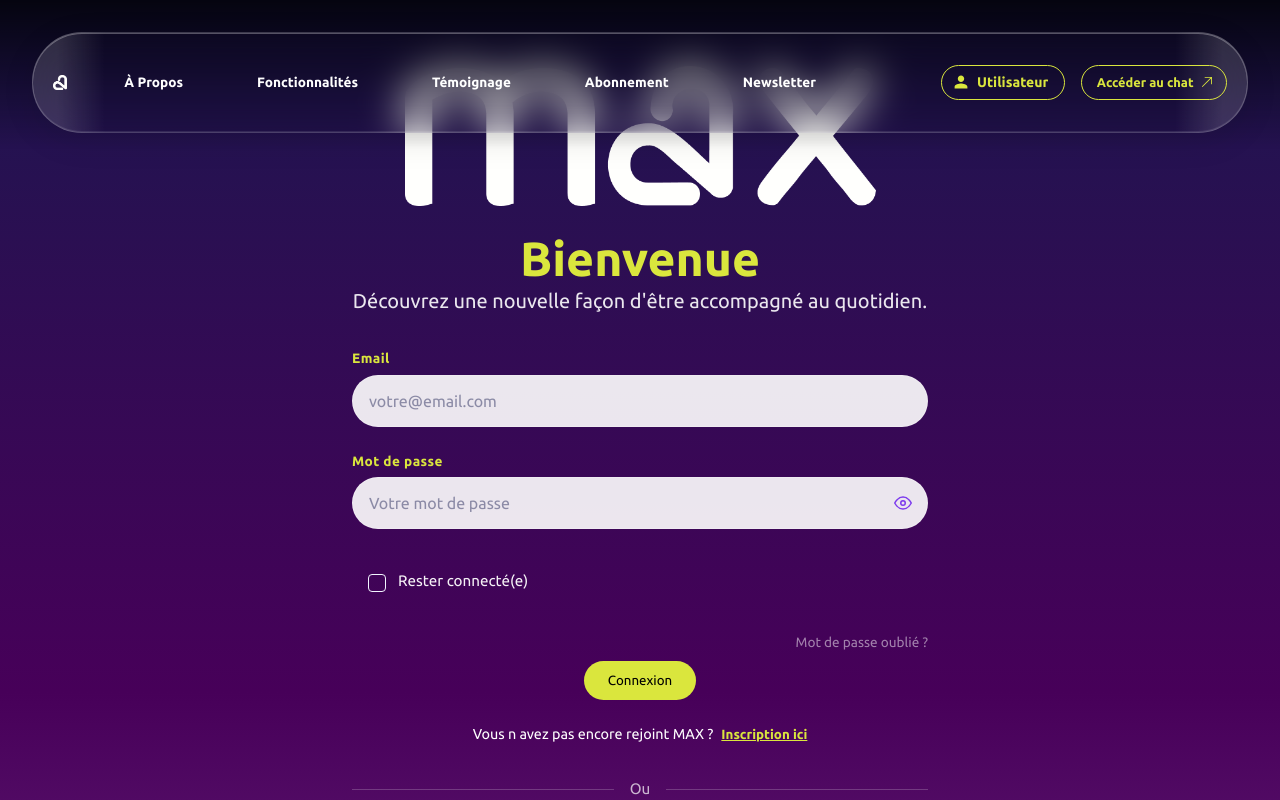
AuthUser Component - Extended Tests › Error Handling › displays generic error on network failure
This screenshot has width=1280, height=800.
(page scrolled)
Type "test@example.com" into the field with placeholder "votre@email.com" at coordinates (640, 401), box [352, 375, 928, 427]
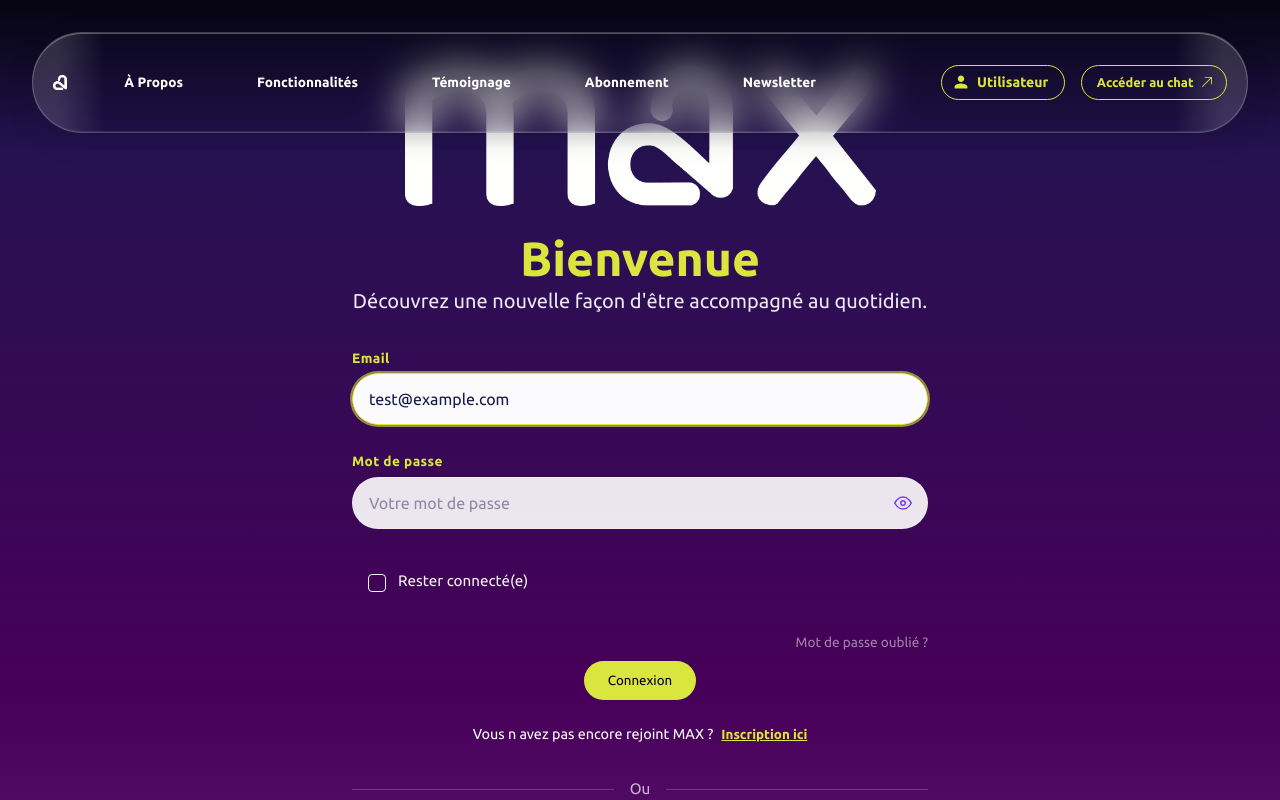
Type "password123" into the password field with placeholder "Votre mot de passe" at coordinates (640, 503), box [352, 477, 928, 529]
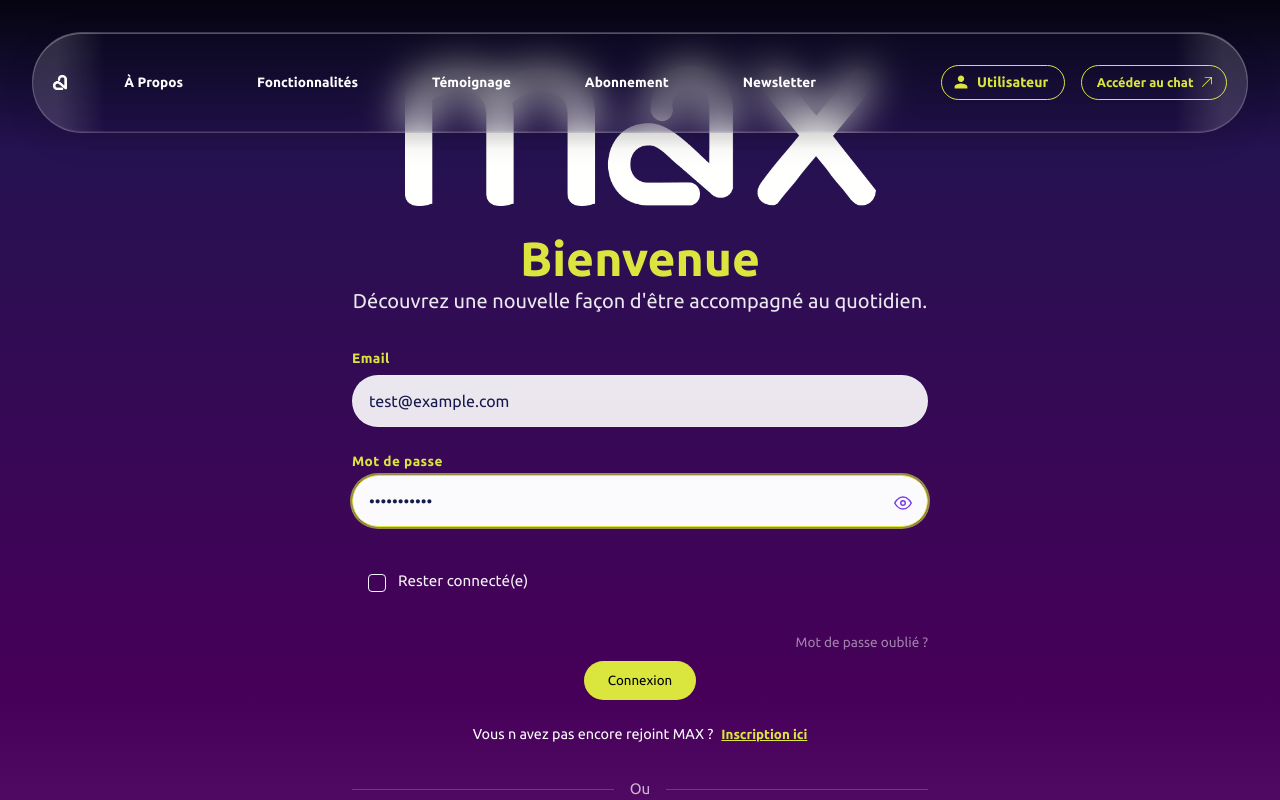
Click the button "Connexion" at coordinates (640, 681), box [584, 661, 696, 700]
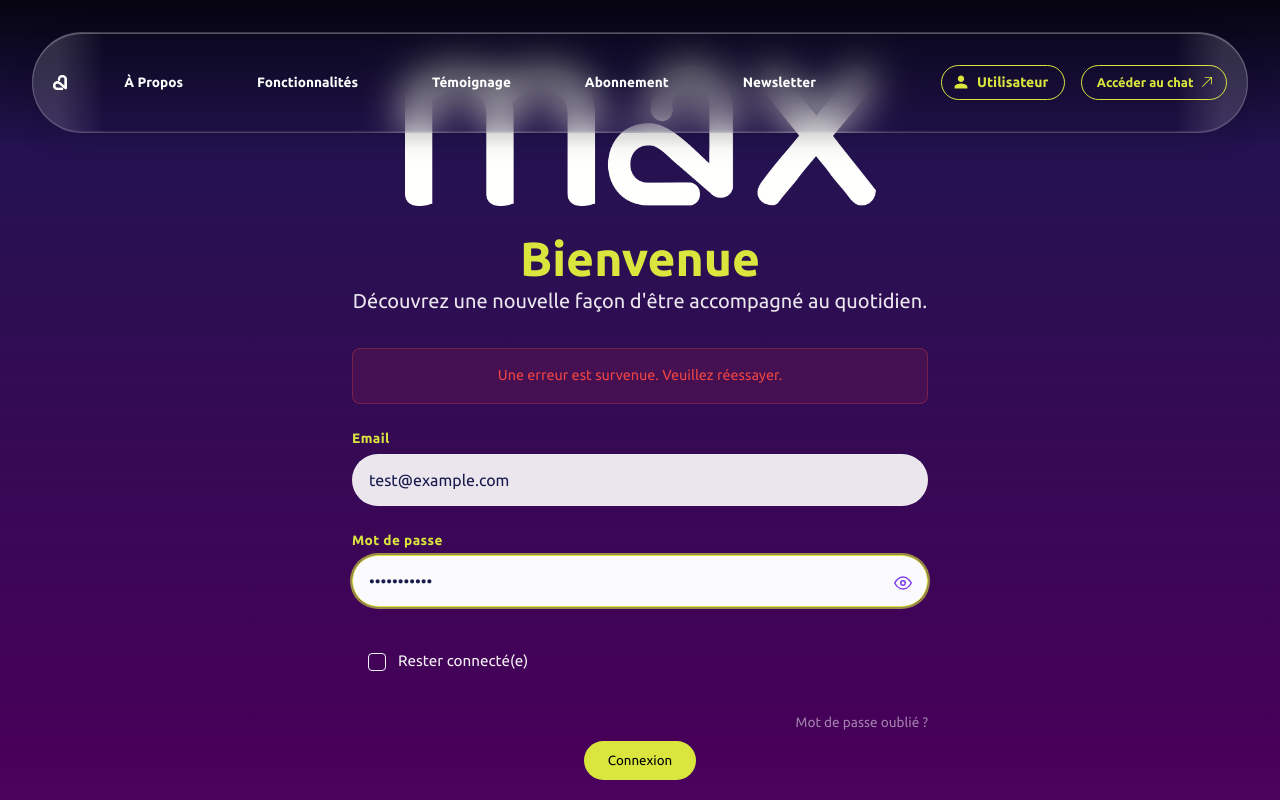
Result: the text "Une erreur est survenue. Veuillez réessayer." is shown at [352, 348, 928, 404]
